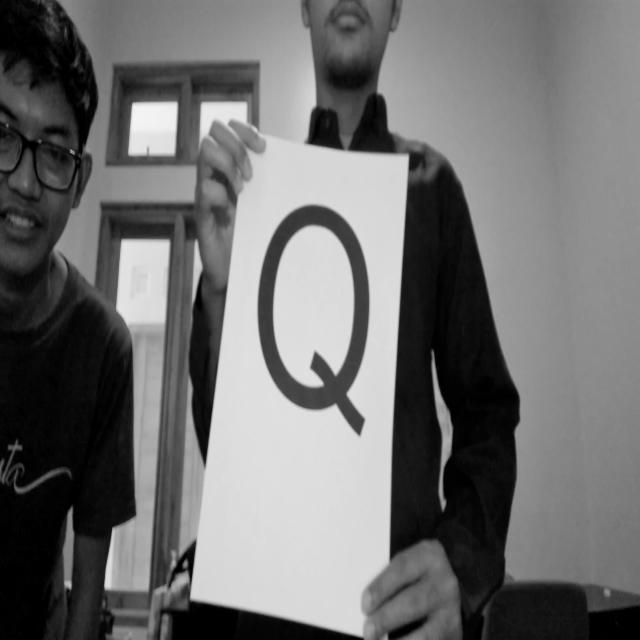q: (247, 176, 393, 478)
